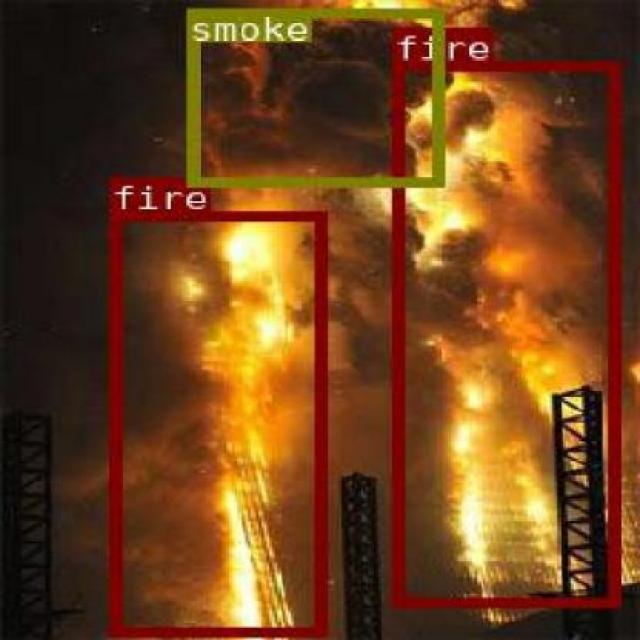fire: (390, 59, 618, 606), (108, 211, 324, 634)
smoke: (186, 8, 442, 184)
